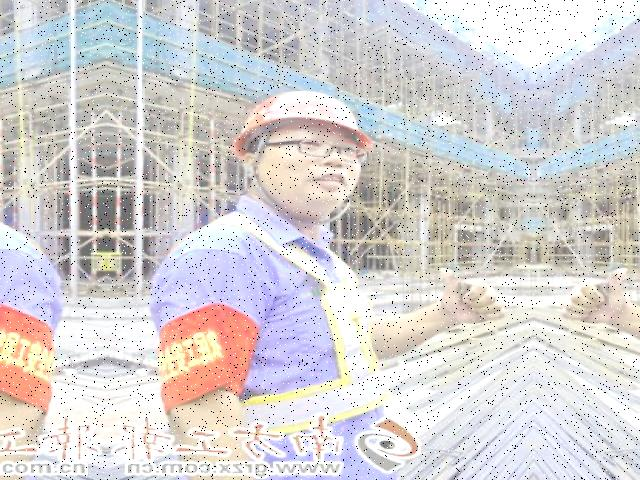Helmet: (228, 86, 378, 168)
